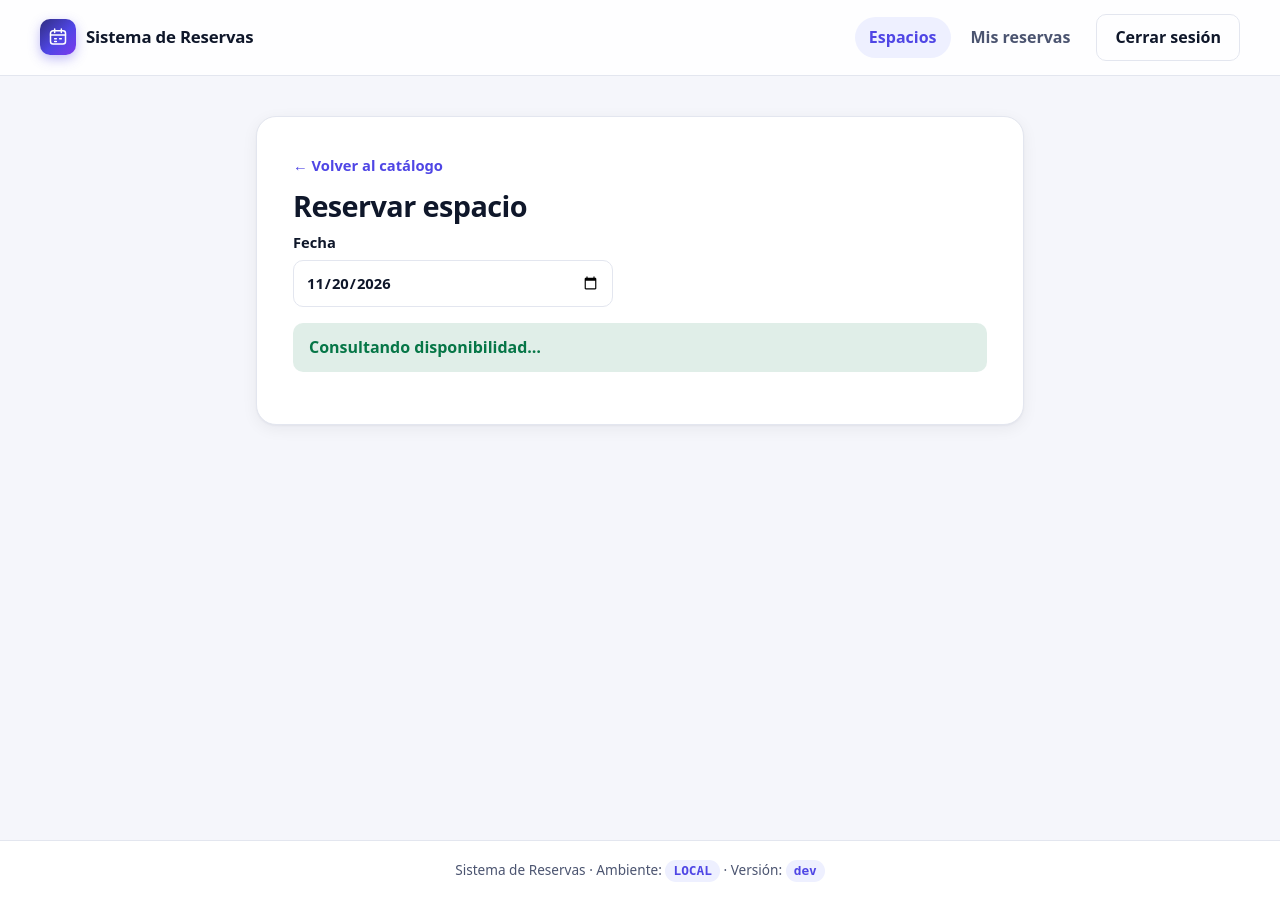
Test: ignora disponibilidad tardía de una fecha anterior
Type "2026-11-21" into the date field labelled "Fecha". click: (453, 284)
box: [293,260,613,307]
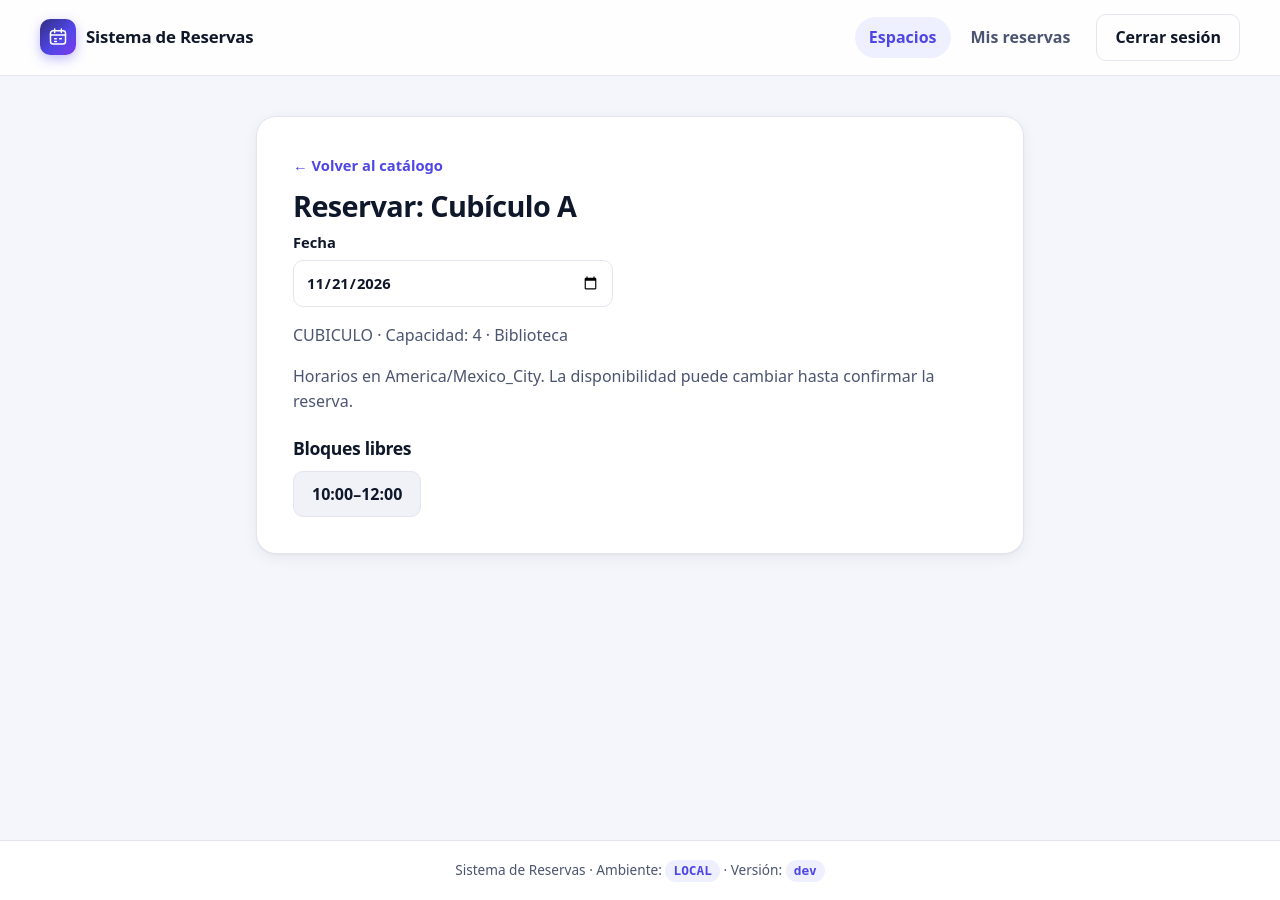
Now the button "10:00–12:00" is shown, box [293,471,421,518]
